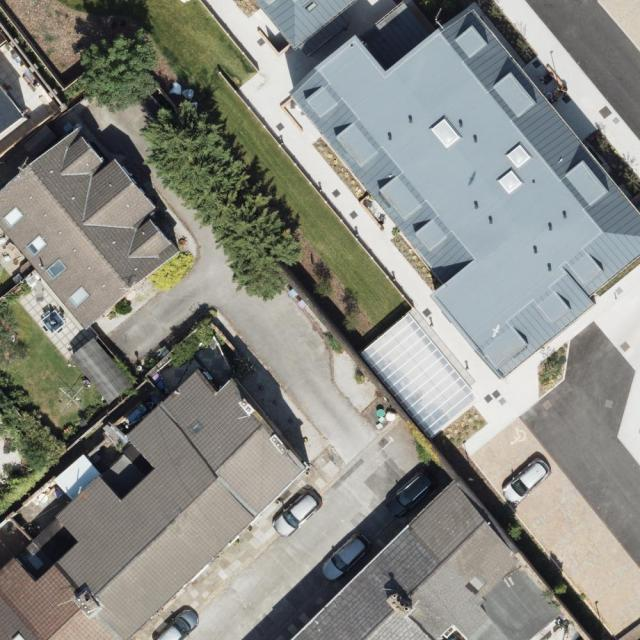roof: (287, 0, 640, 436), (0, 366, 312, 639), (288, 476, 571, 640), (0, 124, 177, 334), (255, 0, 356, 61), (0, 83, 28, 139)
skylight: (39, 258, 72, 284), (63, 286, 92, 309), (0, 203, 26, 227), (22, 235, 49, 258), (187, 418, 209, 438)
